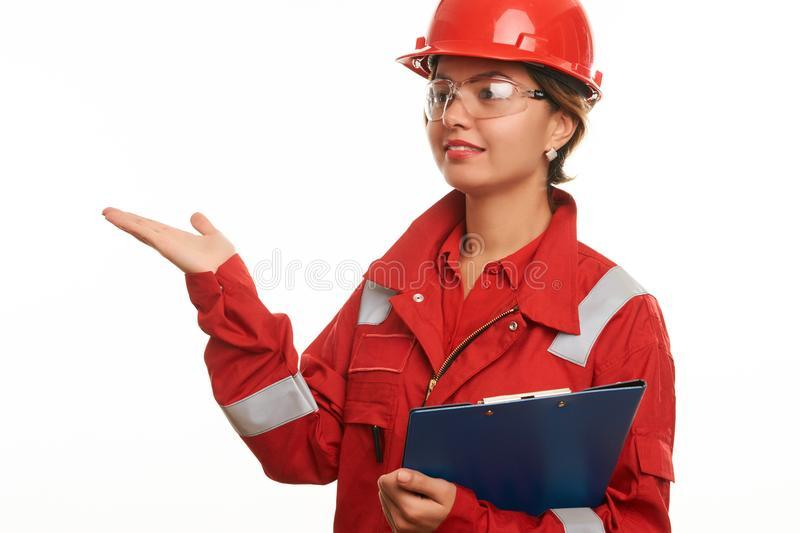helmet: (396, 3, 606, 98)
